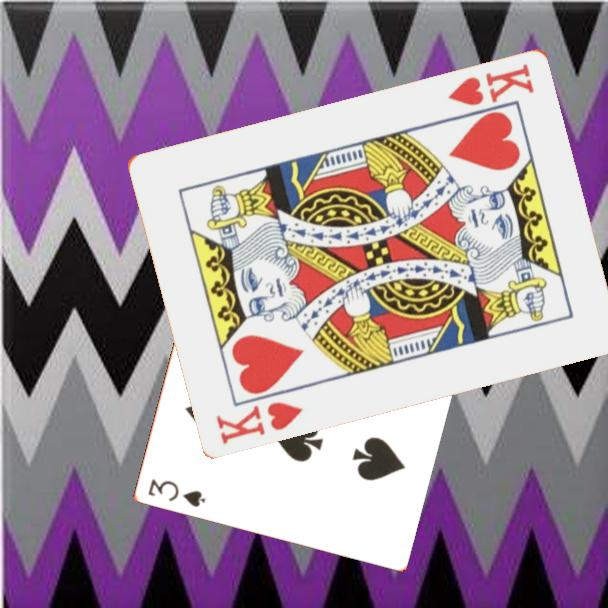h13: (212, 397, 306, 447), (444, 59, 537, 108)
s03: (144, 476, 208, 510)
